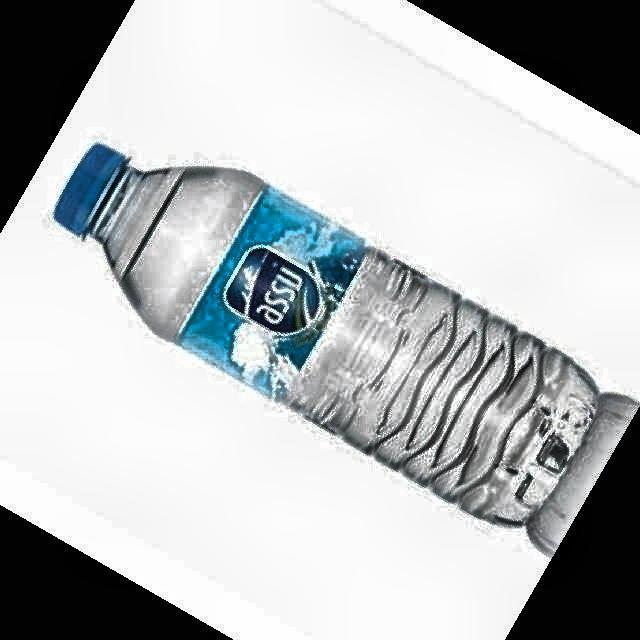plastic: (55, 145, 599, 523)
